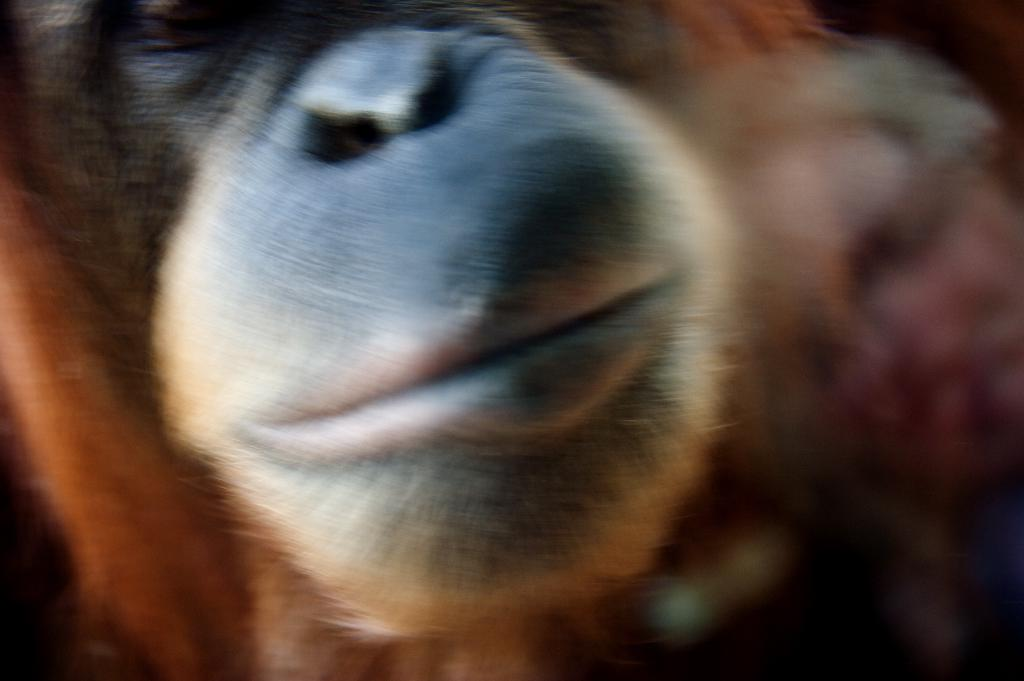Animal: (0, 0, 1022, 680)
